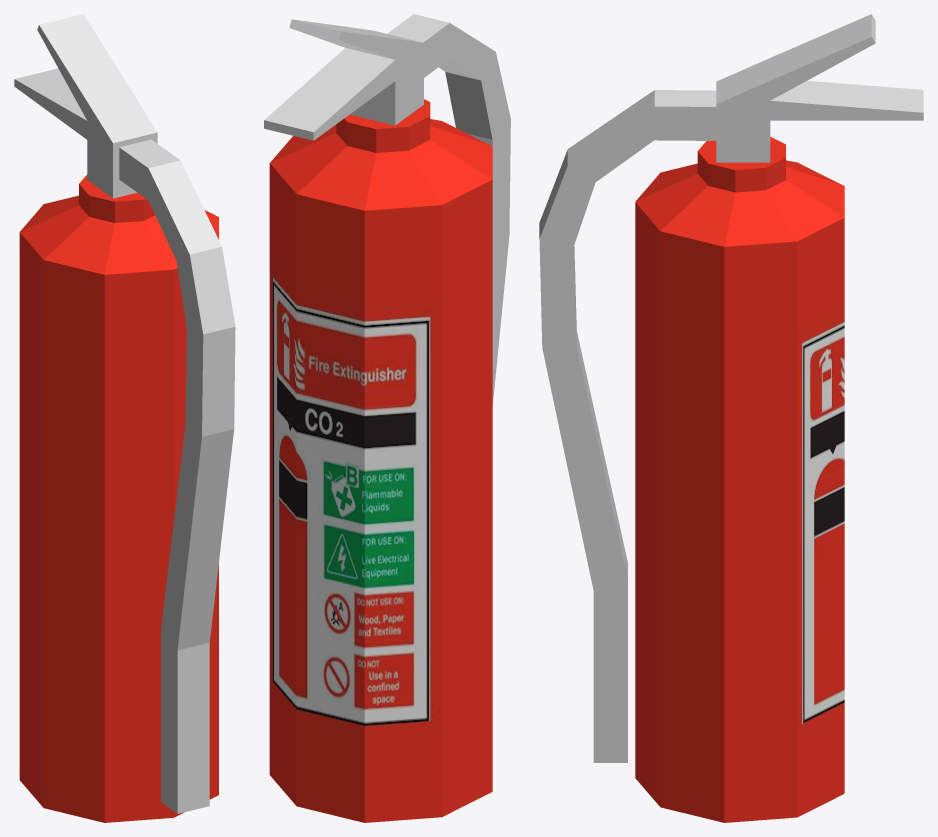
Rendered from FireExtinguisher.fbx.
The picture shows the model from 3 angles, left to right: view 1: azimuth 30°, elevation 25°; view 2: azimuth 150°, elevation 25°; view 3: azimuth 270°, elevation 25°; orthographic projection. The views are drawn at different scales.
Parts seen in each view (by area): view 1: Body, Hose, Lever; view 2: Body, Lever, Hose; view 3: Body, Hose, Lever.
Boxes of the visible parts, left/top/right/bottom form: Body: left=19, top=174, right=218, bottom=822; Hose: left=119, top=139, right=235, bottom=813; Lever: left=14, top=14, right=157, bottom=198; Body: left=269, top=99, right=492, bottom=822; Lever: left=264, top=19, right=423, bottom=140; Hose: left=387, top=14, right=510, bottom=404; Body: left=635, top=137, right=844, bottom=822; Hose: left=539, top=90, right=716, bottom=762; Lever: left=716, top=14, right=923, bottom=162.
Size of the model in its own units: 197 by 768 by 355.
